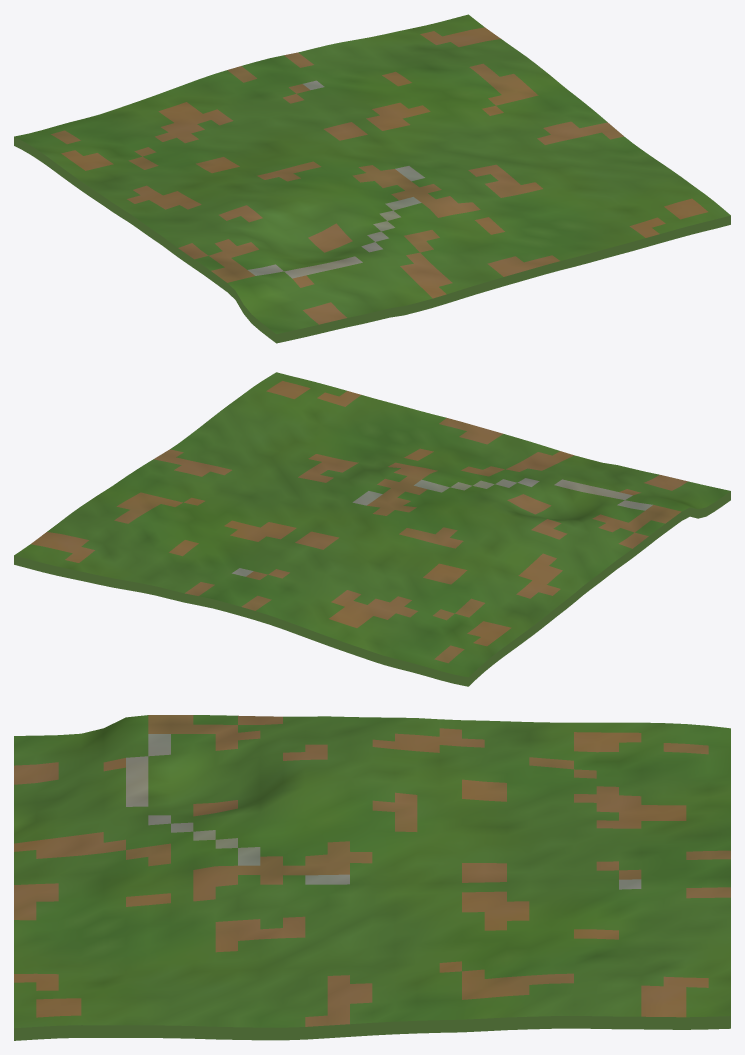
File: chunk_3_6_lod1.glb
3 views of the same model, one above another, from view 1: azimuth 30°, elevation 25°; view 2: azimuth 150°, elevation 25°; view 3: azimuth 270°, elevation 25° (orthographic). The views are drawn at different scales.
Parts seen in each view (by area): view 1: Surface_Grass, Surface_Dirt, Skirt, Surface_Gravel; view 2: Surface_Grass, Surface_Dirt, Skirt, Surface_Gravel; view 3: Surface_Grass, Surface_Dirt, Skirt, Surface_Gravel.
Part boxes in pixels (x1,y1,x2,y2): Surface_Grass: (14, 14, 730, 333); Surface_Dirt: (51, 27, 707, 324); Skirt: (14, 136, 730, 343); Surface_Gravel: (248, 80, 424, 278); Surface_Grass: (14, 372, 730, 677); Surface_Dirt: (31, 381, 687, 663); Skirt: (14, 491, 730, 686); Surface_Gravel: (232, 478, 652, 576); Surface_Grass: (14, 715, 730, 1028); Surface_Dirt: (14, 715, 730, 1026); Skirt: (14, 1016, 730, 1040); Surface_Gravel: (126, 734, 641, 889).
Bounding box in the file's own units: 256 × 20.04 × 256.
